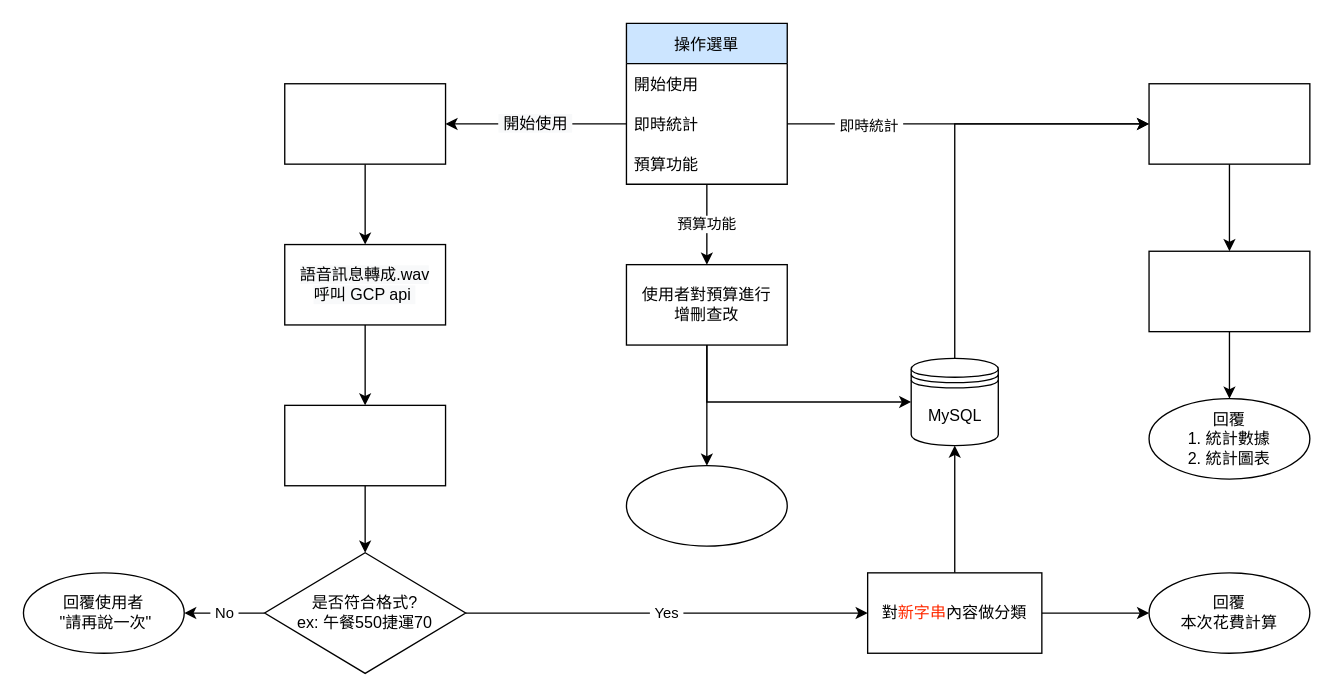
Image size: 1333x697. Some labels were removed from this diagram. The centre of each missing label's shape, as x and y in pixels:
"1. 計算結果 2. 用 plt 視覺化" goes at point 1229,291.
"使用者 輸入語音訊息" goes at point 364,123.
"回覆操作結果" goes at point 706,505.
"根據 userI_id 查詢該使用者花費" goes at point 1229,123.
"清洗辨識結果 只留 str+int 的 新字串 (jieba, 正則法)" goes at point 364,445.
